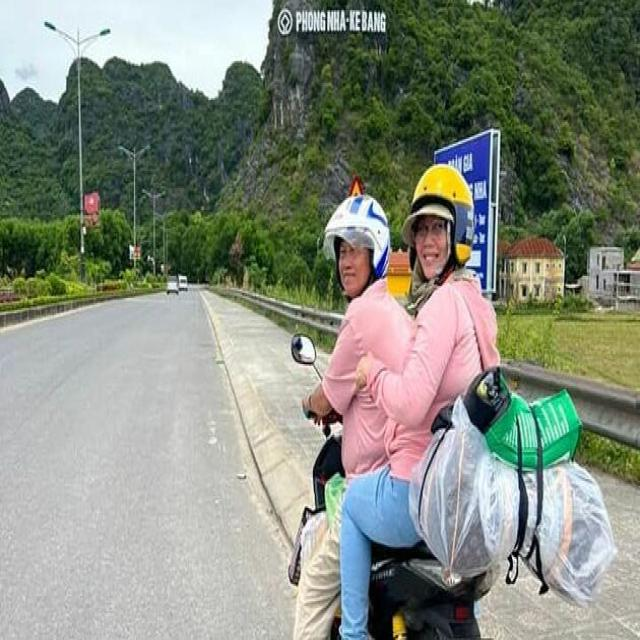helmet: (323, 195, 390, 278)
